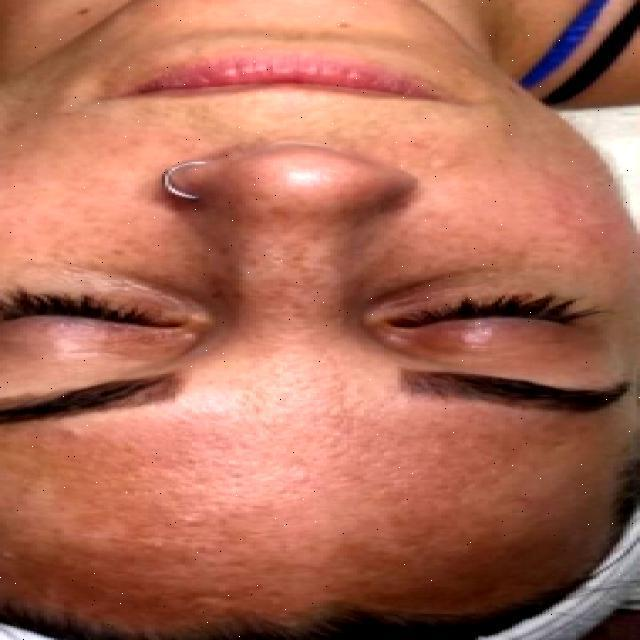Melasma: (3, 428, 617, 595), (440, 60, 625, 268), (0, 48, 96, 225)
